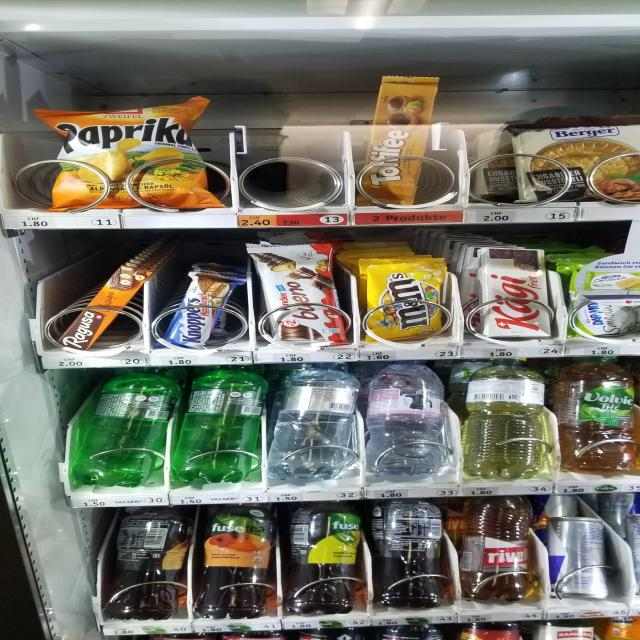berger_nusstoertli____: (510, 121, 640, 205)
bueno___43__4008400320328: (253, 241, 357, 348)
darwida_sandwich____7610032065170: (564, 264, 639, 336)
evian___50__3068320353500: (366, 360, 448, 474)
fuse_lemon__50__5449000235947: (274, 501, 360, 615), (368, 498, 451, 606)
fuse_peach__50__5449000236623: (101, 504, 192, 620), (185, 502, 273, 618)
kagi___50__7610046000259: (467, 244, 551, 340)
knoppers_riegel____4035800488808: (157, 267, 252, 349)
mnms_gelb__45__40111445: (354, 255, 458, 344)
ragusa___50__76401121: (51, 264, 150, 351)
redbull___33__90162909: (545, 514, 604, 599)
rivella_rot__50__7610097111072: (456, 494, 537, 602)
toffifee___33__4014400924275: (355, 72, 443, 206)
valser_classic__50__76404160: (76, 366, 172, 488), (169, 365, 267, 484)
valser_still__50__7610335002575: (274, 362, 362, 477)
valser_vivabirne__50__7610335001530: (455, 356, 551, 479)
volvic_teeminze__50__3057640335648: (550, 358, 637, 472)
zweifel_paprika__90__7610095013002: (46, 98, 212, 209)
